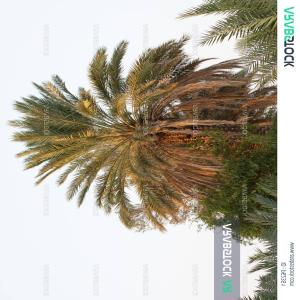palm tree: (6, 32, 276, 235)
